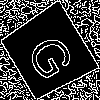G: (24, 27, 85, 84)
